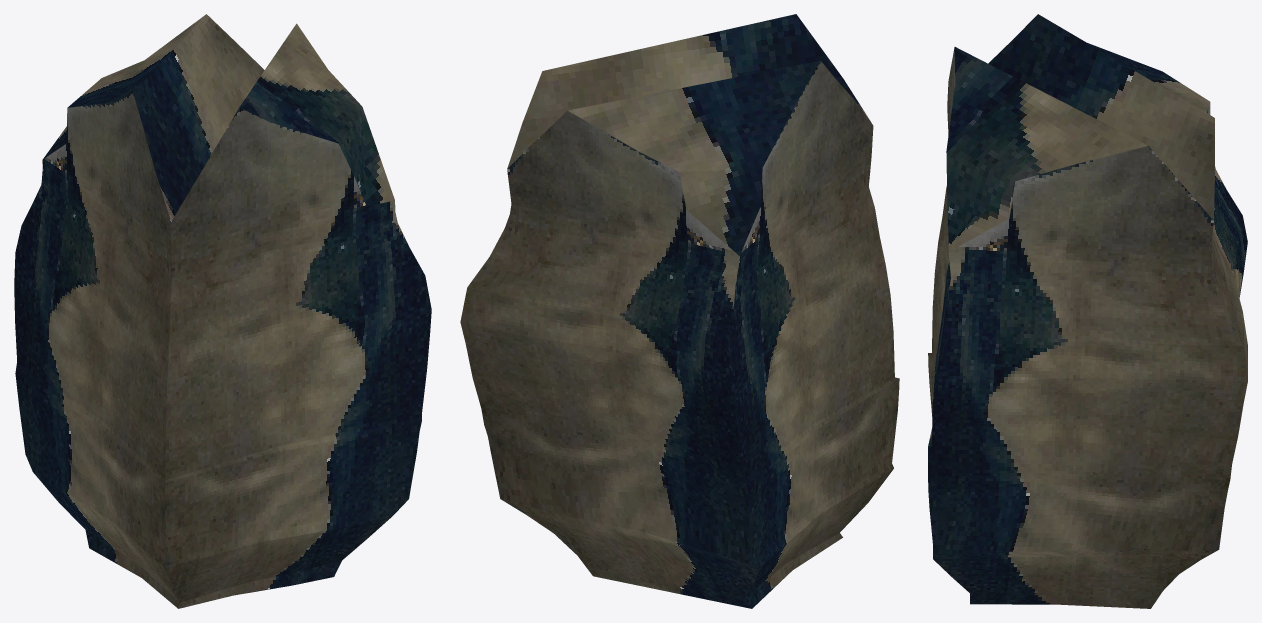
3 renders of one model, left to right at view 1: azimuth 30°, elevation 25°; view 2: azimuth 150°, elevation 25°; view 3: azimuth 270°, elevation 25°, orthographic. The views are drawn at different scales.
Parts seen in each view (by area): view 1: SPLICE_2; view 2: SPLICE_2; view 3: SPLICE_2.
Part boxes in pixels (x1,y1,x2,y2): SPLICE_2: (14,14,431,608); SPLICE_2: (460,14,899,608); SPLICE_2: (928,14,1247,608).
Size of the model in its own units: 1.38 by 2.57 by 1.38.
Materials: 1 (1 with a texture image).
